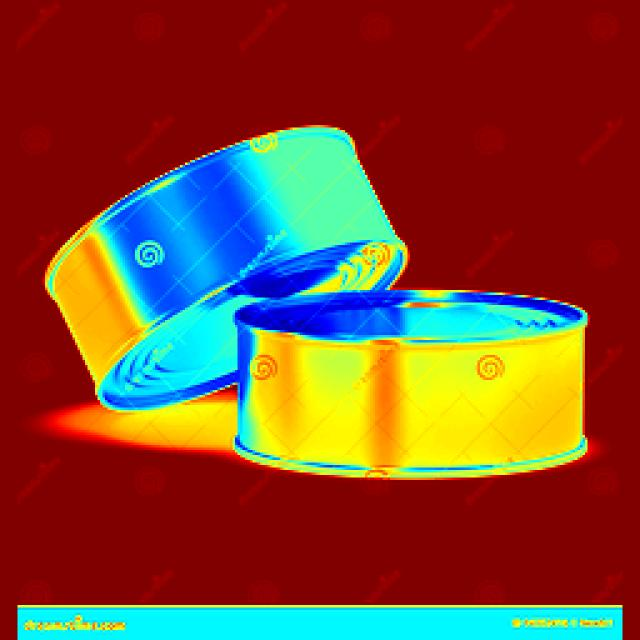Aluminium Food Cans: (250, 264, 597, 482), (73, 146, 400, 326)
